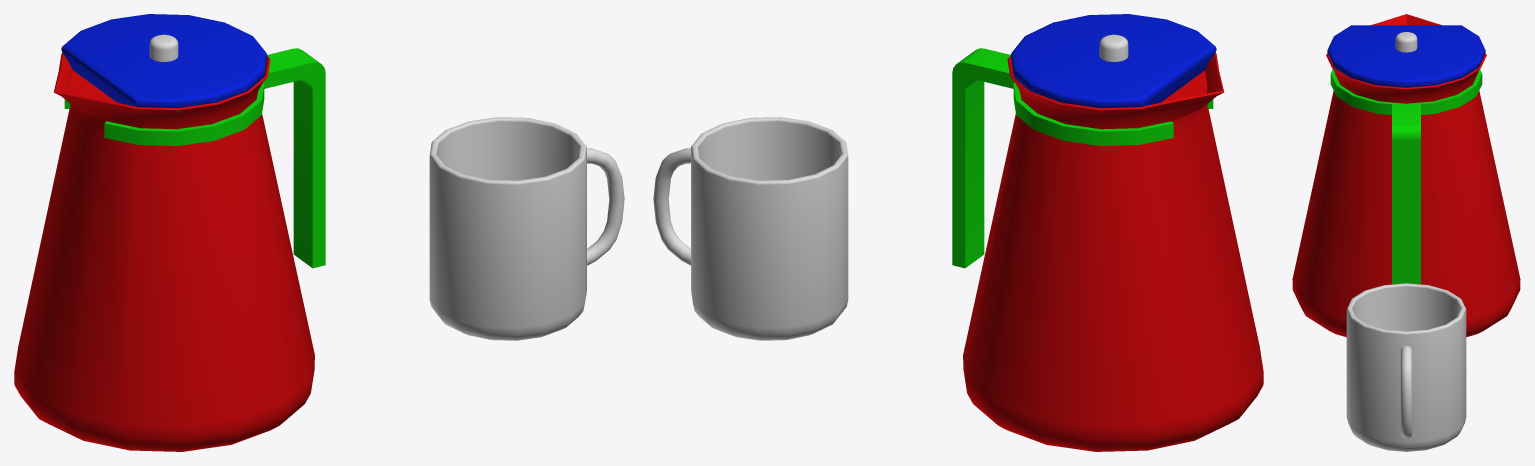
The model's file is TeaSet.fbx.
The picture shows the model from 3 angles, left to right: view 1: azimuth 30°, elevation 25°; view 2: azimuth 150°, elevation 25°; view 3: azimuth 270°, elevation 25°; orthographic projection. The views are drawn at different scales.
Visible parts, largest first — view 1: Pot, Cup; view 2: Pot, Cup; view 3: Pot, Cup.
Boxes of the visible parts, x1,y1,x2,y2 form: Pot: (14, 14, 325, 451); Cup: (429, 117, 624, 340); Pot: (952, 14, 1263, 451); Cup: (653, 117, 848, 340); Pot: (1292, 14, 1520, 337); Cup: (1346, 283, 1466, 451).
Size of the model in its own units: 858 by 500 by 382.
